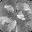people: (4, 4, 15, 14), (8, 21, 17, 31), (17, 10, 25, 21), (3, 17, 13, 25), (0, 14, 8, 21)
